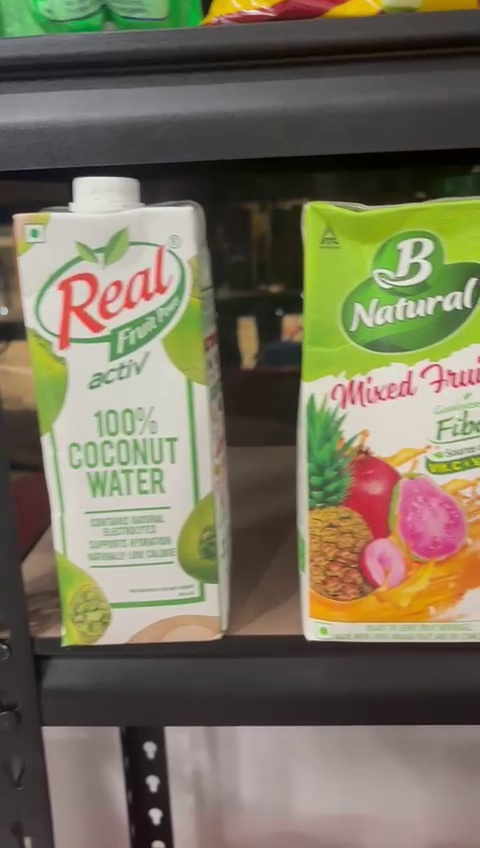Coconut water: (20, 174, 230, 646)
Mixed Fruit: (299, 200, 480, 644)
